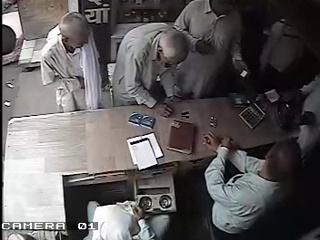Normal: (202, 131, 301, 240), (171, 0, 252, 100), (112, 22, 190, 118), (40, 12, 105, 113), (88, 196, 160, 240)
